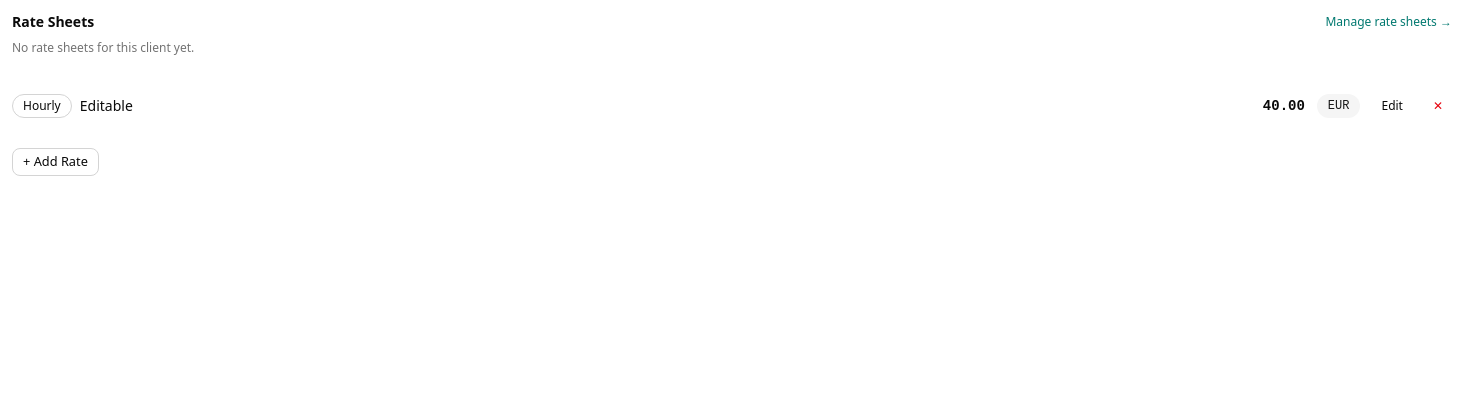
it: ClientRatesTab › switches a rate to inline edit mode
Expected: the text "Editable" is shown, 80,96 -> 133,116
Click the button "Edit" at (1392, 106), box 1372,92 -> 1412,120
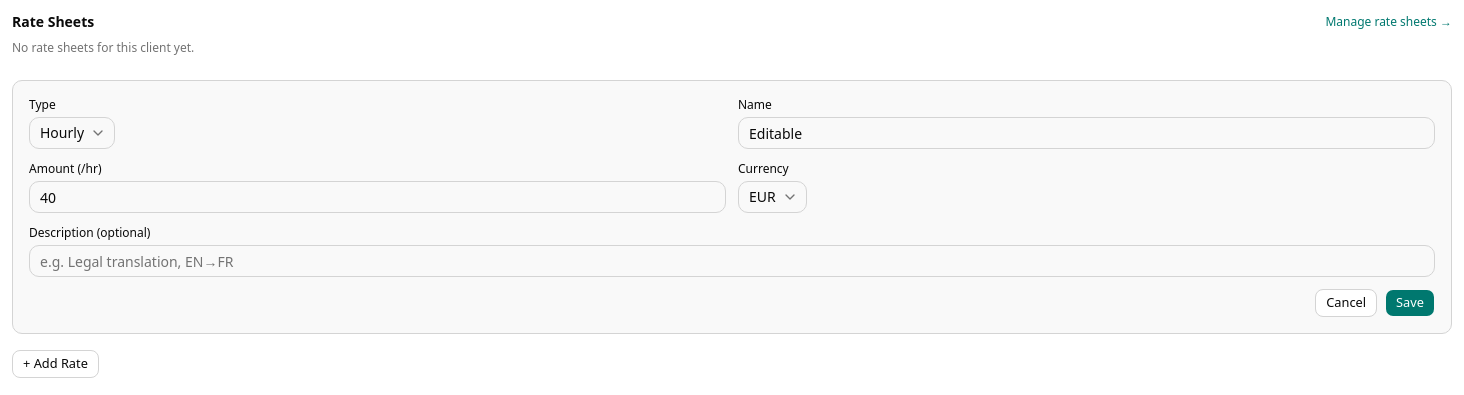
Expected: the field labelled "Name" holds "Editable", 738,117 -> 1435,149
